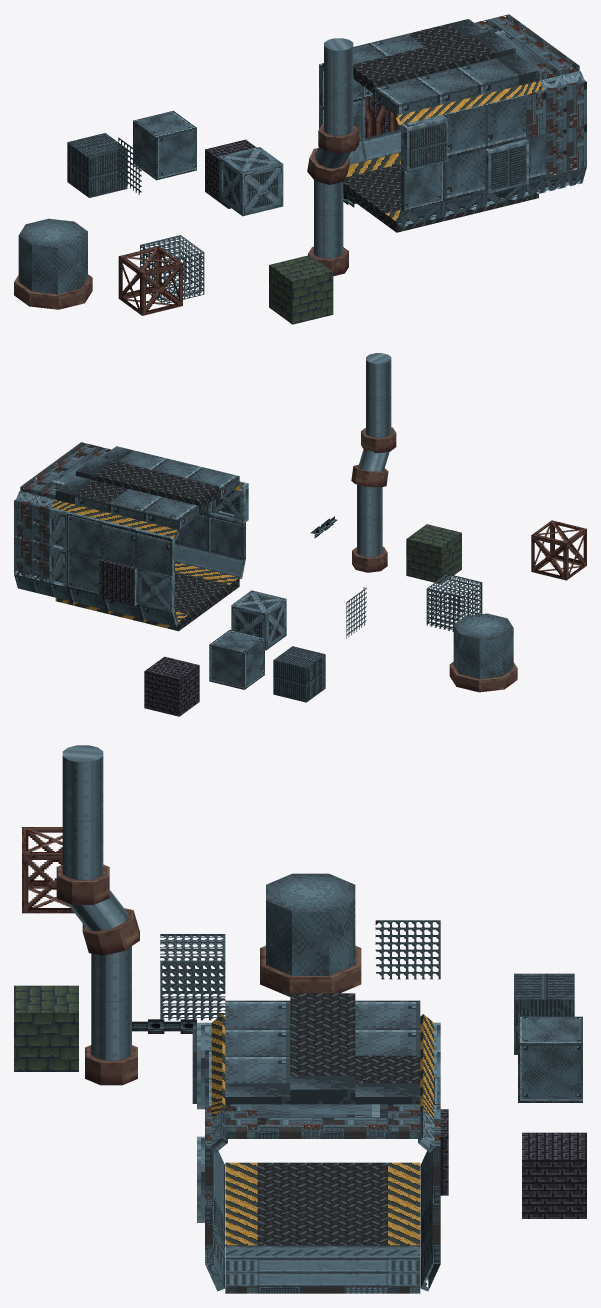
The model's file is environnement.fbx.
3 views of the same model, one above another, from view 1: azimuth 30°, elevation 25°; view 2: azimuth 150°, elevation 25°; view 3: azimuth 270°, elevation 25° (orthographic). The views are drawn at different scales.
Visible parts, largest first — view 1: cylinder, cube, cube_2, cube_71, cube_68, cube_3, cube_95, cube_13, cube_43, cube_88, cube_42, cube_82 (+47 smaller); view 2: cylinder, cube_1, cube_2, cube, cube_71, cube_95, cube_3, cube_68, cube_41, cube_74, cube_87, cube_28 (+37 smaller); view 3: cylinder, cube, cube_1, cube_2, cube_95, cylinder_7, cube_118, cube_71, cube_3, cylinder_6, cube_96, cylinder_8 (+40 smaller).
Boxes of the visible parts, bbox=[...] form: cylinder: bbox=[18, 218, 87, 294]; cube: bbox=[269, 255, 333, 324]; cube_2: bbox=[133, 110, 196, 180]; cube_71: bbox=[67, 133, 127, 197]; cube_68: bbox=[219, 147, 283, 216]; cube_3: bbox=[118, 246, 182, 315]; cube_95: bbox=[140, 235, 204, 303]; cube_13: bbox=[483, 95, 525, 148]; cube_43: bbox=[444, 149, 485, 201]; cube_88: bbox=[401, 162, 444, 211]; cube_42: bbox=[442, 105, 485, 158]; cube_82: bbox=[373, 78, 437, 115]; cylinder: bbox=[453, 613, 513, 678]; cube_1: bbox=[144, 656, 199, 716]; cube_2: bbox=[209, 630, 264, 689]; cube: bbox=[406, 524, 461, 583]; cube_71: bbox=[273, 646, 325, 702]; cube_95: bbox=[426, 573, 482, 631]; cube_3: bbox=[531, 520, 586, 580]; cube_68: bbox=[231, 590, 286, 650]; cube_41: bbox=[99, 559, 137, 605]; cube_74: bbox=[137, 529, 174, 575]; cube_87: bbox=[137, 567, 174, 612]; cube_28: bbox=[102, 520, 138, 567]; cylinder: bbox=[266, 873, 355, 975]; cube: bbox=[14, 985, 78, 1071]; cube_1: bbox=[522, 1132, 586, 1218]; cube_2: bbox=[518, 1016, 582, 1102]; cube_95: bbox=[160, 934, 225, 1020]; cylinder_7: bbox=[62, 745, 103, 821]; cube_118: bbox=[257, 1272, 387, 1293]; cube_71: bbox=[514, 973, 574, 1054]; cube_3: bbox=[22, 827, 74, 913]; cylinder_6: bbox=[62, 815, 103, 880]; cube_96: bbox=[375, 920, 440, 979]; cylinder_8: bbox=[91, 995, 131, 1060].
Bounding box in the file's own units: 1297 × 688 × 881.
Materials: 11 (11 with a texture image).
